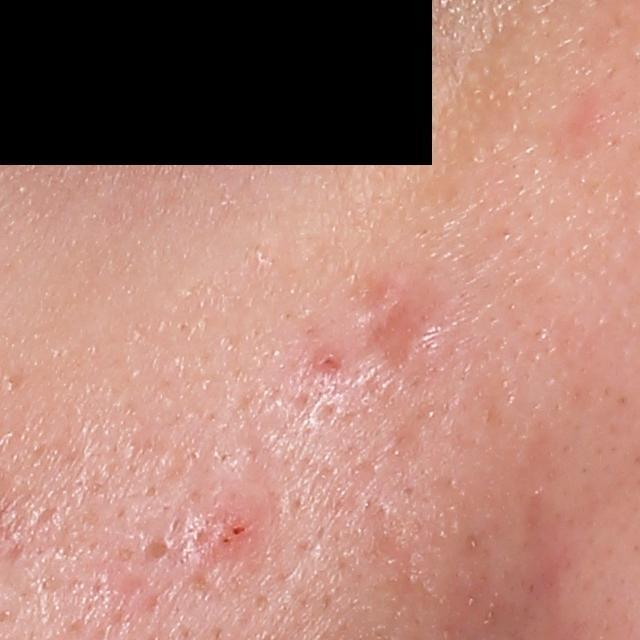comedo: (134, 531, 177, 575)
papule: (178, 504, 244, 568), (393, 328, 439, 374)
